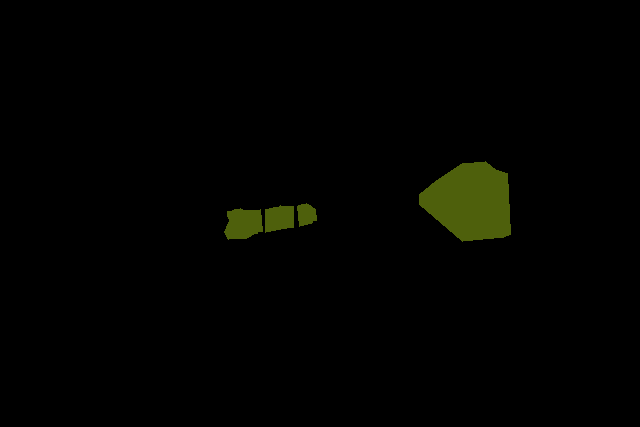Train: (419, 161, 510, 242), (224, 203, 317, 240)
